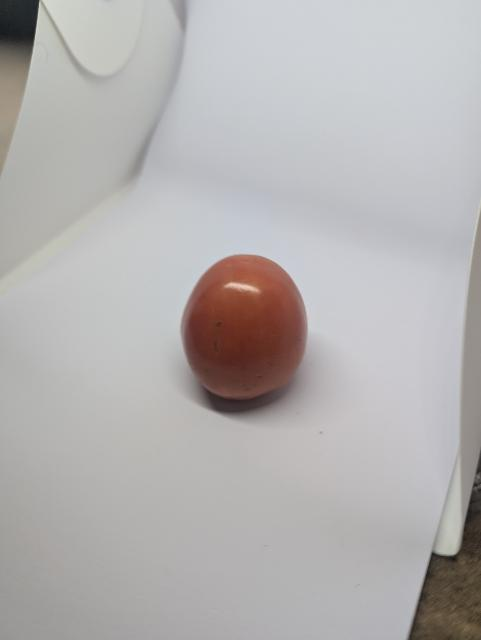red: (175, 249, 320, 408)
